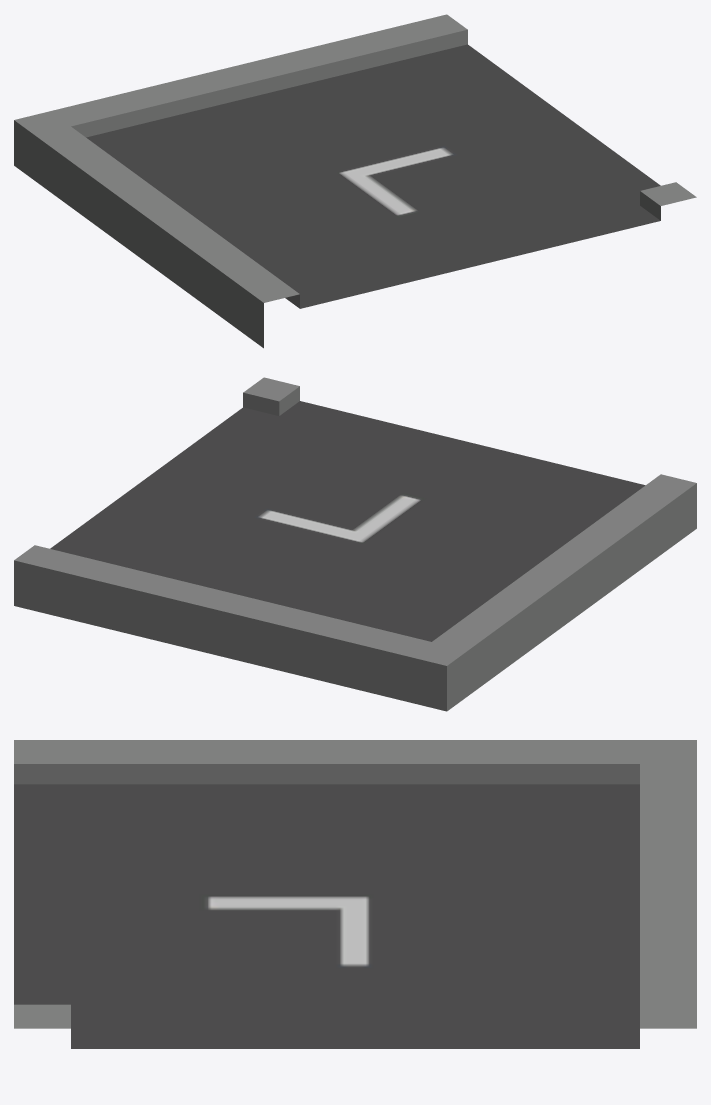
Rendered from Road turn.fbx.
The picture shows the model from 3 angles, top to bottom: view 1: azimuth 30°, elevation 25°; view 2: azimuth 150°, elevation 25°; view 3: azimuth 270°, elevation 25°; orthographic projection. The views are drawn at different scales.
Parts seen in each view (by area): view 1: Road turn mesh; view 2: Road turn mesh; view 3: Road turn mesh.
Part boxes in pixels (x1=…): Road turn mesh: x1=14, y1=14, x2=696, y2=348; Road turn mesh: x1=14, y1=377, x2=696, y2=711; Road turn mesh: x1=14, y1=740, x2=696, y2=1048.
Bounding box in the file's own units: 0.9999 × 0.1005 × 0.9999.
